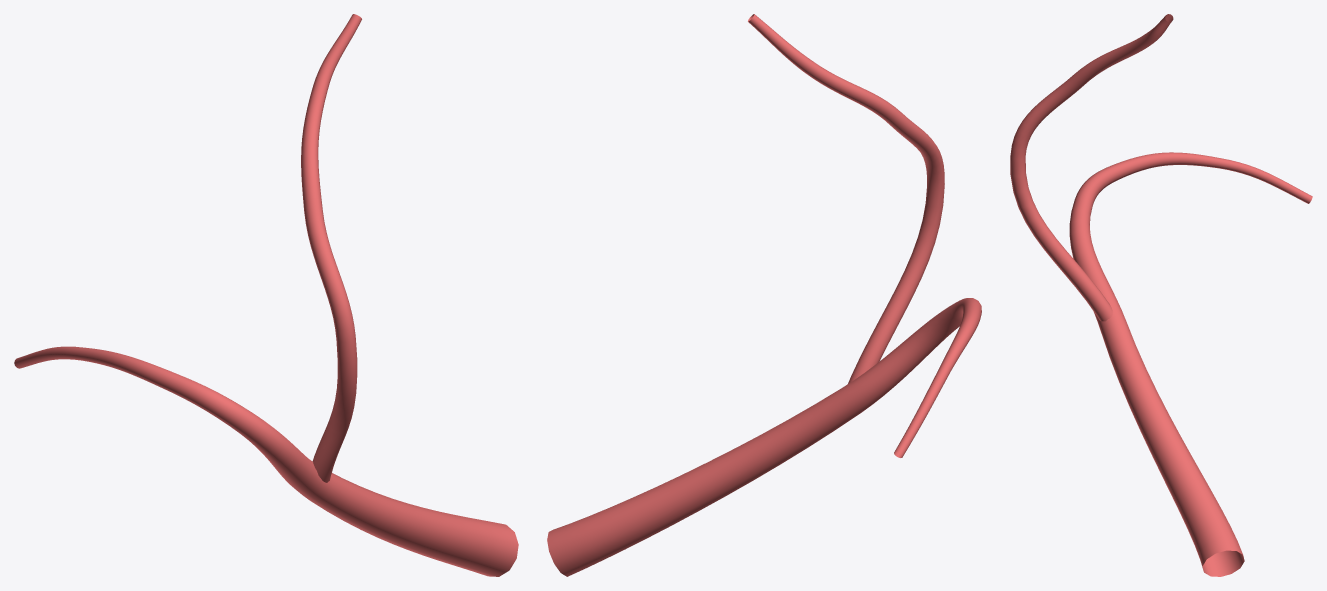
File: Anterior_circumflex_humeral_artery.r_BezierCurve.131.glb
The picture shows the model from 3 angles, left to right: view 1: azimuth 30°, elevation 25°; view 2: azimuth 150°, elevation 25°; view 3: azimuth 270°, elevation 25°; orthographic projection. The views are drawn at different scales.
Visible parts, largest first — view 1: Anterior_circumflex_humeral_artery.r_BezierCurve.131; view 2: Anterior_circumflex_humeral_artery.r_BezierCurve.131; view 3: Anterior_circumflex_humeral_artery.r_BezierCurve.131.
Part boxes in pixels (bbox=[...]): Anterior_circumflex_humeral_artery.r_BezierCurve.131: bbox=[14, 14, 518, 576]; Anterior_circumflex_humeral_artery.r_BezierCurve.131: bbox=[547, 14, 981, 576]; Anterior_circumflex_humeral_artery.r_BezierCurve.131: bbox=[1010, 14, 1312, 576].
Bounding box in the file's own units: 0.0463 × 0.0629 × 0.0346.
